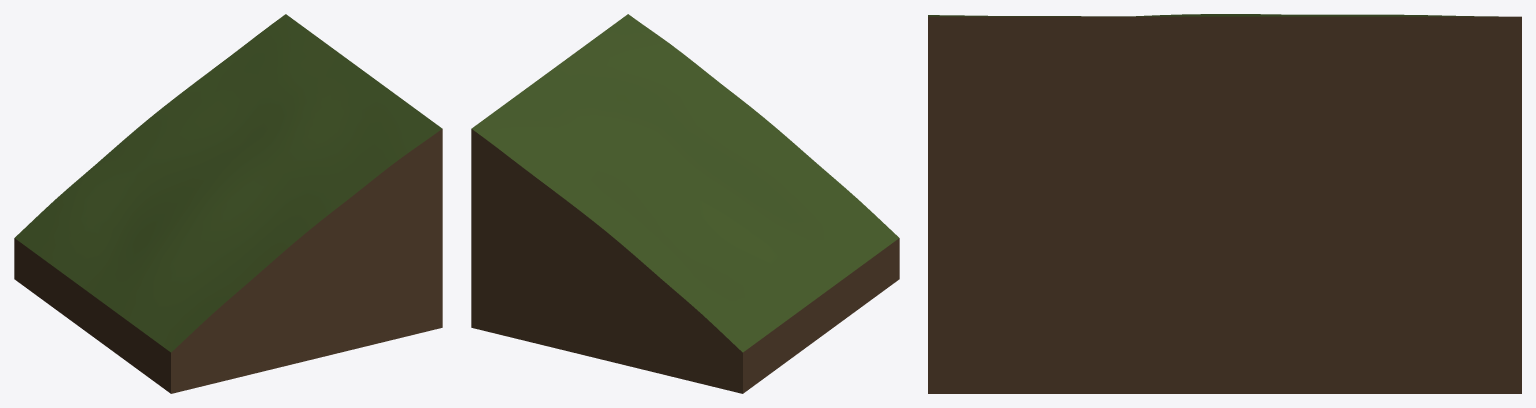
3 views of the same model, side by side, from view 1: azimuth 30°, elevation 25°; view 2: azimuth 150°, elevation 25°; view 3: azimuth 270°, elevation 25° (orthographic). The views are drawn at different scales.
Visible parts, largest first — view 1: e23go; view 2: e23go; view 3: e23go.
Boxes of the visible parts, bbox=[...] form: e23go: bbox=[14, 14, 442, 393]; e23go: bbox=[471, 14, 899, 393]; e23go: bbox=[928, 14, 1521, 393].
Size of the model in its own units: 9 by 6.31 by 9.
